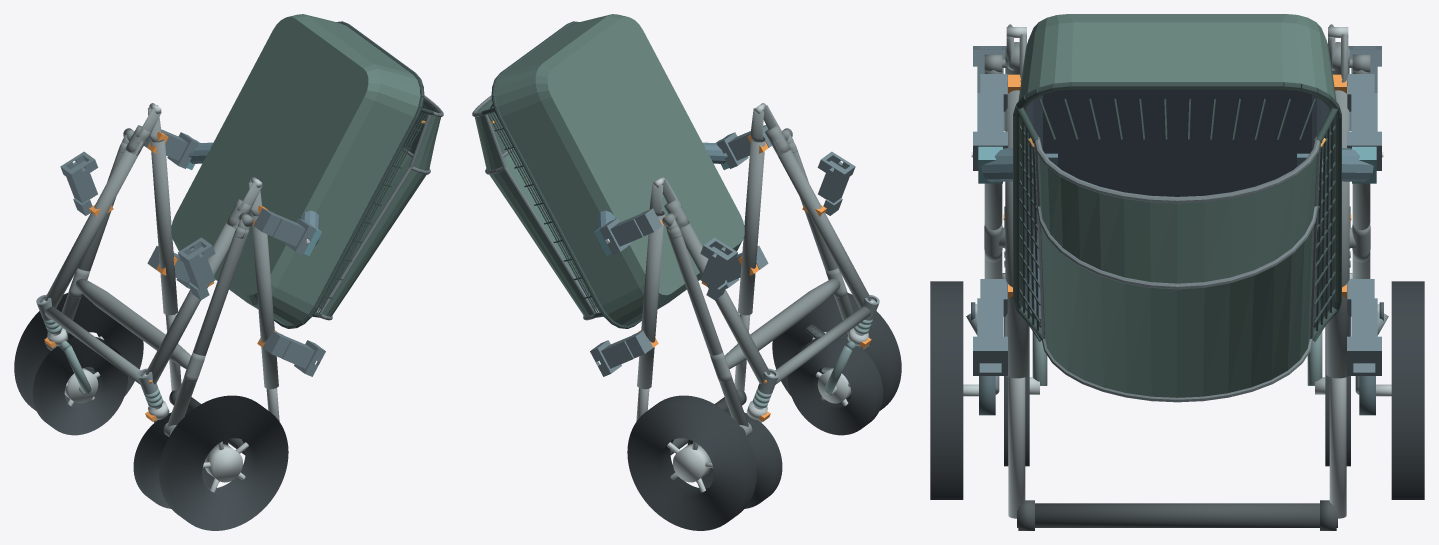
The model's file is S03_w550_state3_wheel_M.glb.
3 renders of one model, left to right at view 1: azimuth 30°, elevation 25°; view 2: azimuth 150°, elevation 25°; view 3: azimuth 270°, elevation 25°, orthographic. The views are drawn at different scales.
Visible parts, largest first — view 1: S03_Cabin, RL_tire.002, FR_tire.002, RR_tire.002, main_lower_1.003, main_upper_1.003, V46_rear_leg_-1.003, main_upper_-1.003, FL_tire.002, V46_rearbar.003, main_lower_-1.003, Universal_Cabin_Receiver_H_-1 (+10 smaller); view 2: S03_Cabin, RR_tire.002, FL_tire.002, RL_tire.002, main_lower_-1.003, main_upper_-1.003, V46_rear_leg_1.003, main_upper_1.003, FR_tire.002, V46_rearbar.003, main_lower_1.003, Universal_Cabin_Receiver_H_1 (+10 smaller); view 3: S03_Cabin, RL_tire.002, RR_tire.002, round_handle.002, Universal_Cabin_Receiver_H_1, Universal_Cabin_Receiver_H_-1, S03_Cabin_Mount_M, main_upper_1.003, main_upper_-1.003, handle_slider_1.002, handle_slider_-1.002, Universal_Cabin_Receiver_M_-1 (+13 smaller).
Boxes of the visible parts, x1,y1,x2,y2 form: S03_Cabin: [171, 14, 443, 328]; RL_tire.002: [159, 395, 288, 530]; FR_tire.002: [32, 337, 127, 435]; RR_tire.002: [14, 293, 143, 410]; main_lower_1.003: [44, 141, 143, 307]; main_upper_1.003: [150, 140, 177, 315]; V46_rear_leg_-1.003: [167, 226, 248, 426]; main_upper_-1.003: [251, 214, 278, 389]; FL_tire.002: [133, 409, 228, 508]; V46_rearbar.003: [75, 278, 190, 368]; main_lower_-1.003: [145, 221, 238, 383]; Universal_Cabin_Receiver_H_-1: [262, 330, 325, 376]; S03_Cabin: [472, 14, 744, 328]; RR_tire.002: [627, 395, 756, 530]; FL_tire.002: [788, 337, 883, 435]; RL_tire.002: [772, 293, 901, 410]; main_lower_-1.003: [772, 141, 871, 307]; main_upper_-1.003: [738, 139, 765, 315]; V46_rear_leg_1.003: [667, 226, 748, 426]; main_upper_1.003: [637, 212, 664, 389]; FR_tire.002: [687, 409, 782, 508]; V46_rearbar.003: [725, 278, 840, 368]; main_lower_1.003: [677, 221, 770, 384]; Universal_Cabin_Receiver_H_1: [590, 330, 653, 376]; S03_Cabin: [1013, 14, 1341, 402]; RL_tire.002: [930, 281, 963, 499]; RR_tire.002: [1391, 281, 1424, 499]; round_handle.002: [1017, 503, 1337, 527]; Universal_Cabin_Receiver_H_1: [1347, 279, 1381, 375]; Universal_Cabin_Receiver_H_-1: [973, 279, 1007, 375]; S03_Cabin_Mount_M: [971, 146, 1383, 183]; main_upper_1.003: [1326, 86, 1349, 378]; main_upper_-1.003: [1005, 86, 1028, 378]; handle_slider_1.002: [1329, 377, 1346, 518]; handle_slider_-1.002: [1008, 377, 1025, 518]; Universal_Cabin_Receiver_M_-1: [973, 74, 1007, 170].
Bounding box in the file's own units: 0.8424 × 0.9295 × 0.6771.
